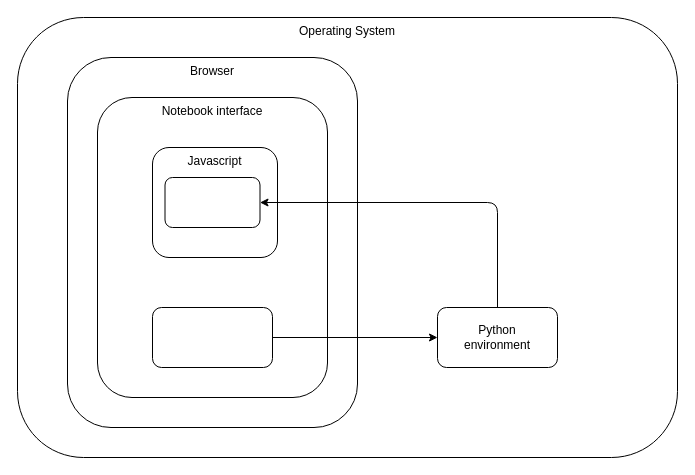
Some shapes in this 695 by 475 pixel diagram are drawn without their labels. The shapes that lost their labels are listed below. From the top down, each one's centre as x and y in pixels, then its label:
(x=212, y=202): nbev3devsim
(x=212, y=337): Code cell
